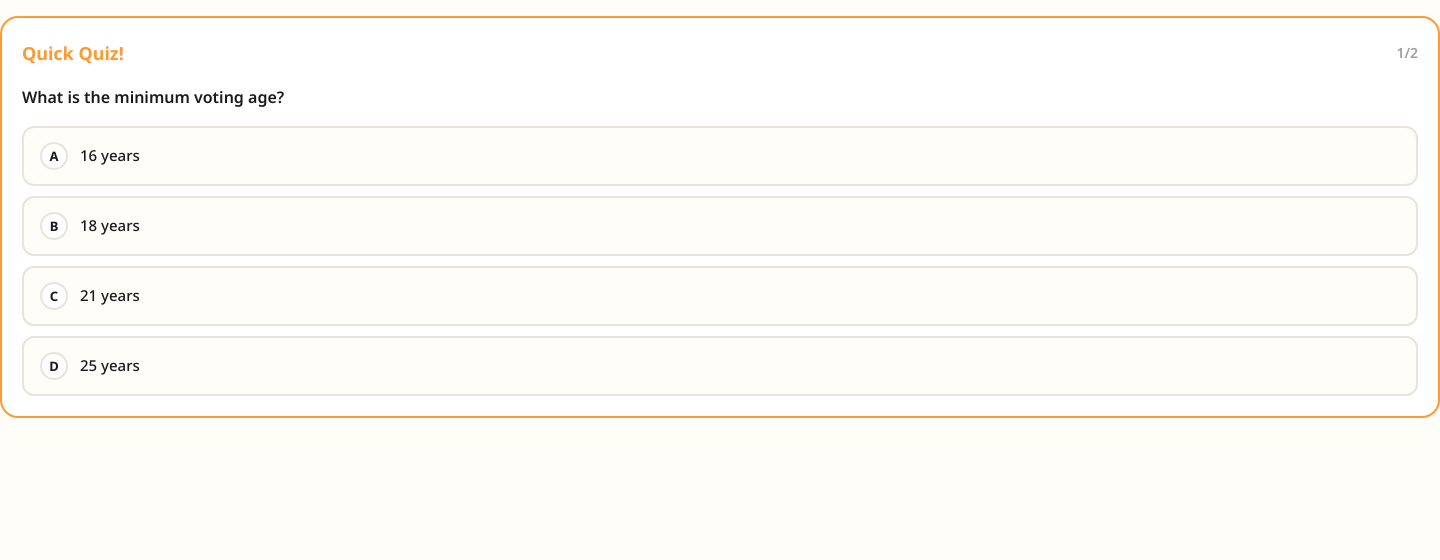
QuizCard › advances to next question on click
Click the button "B 18 years".
click(110, 225)  # box [22,196,1418,256]
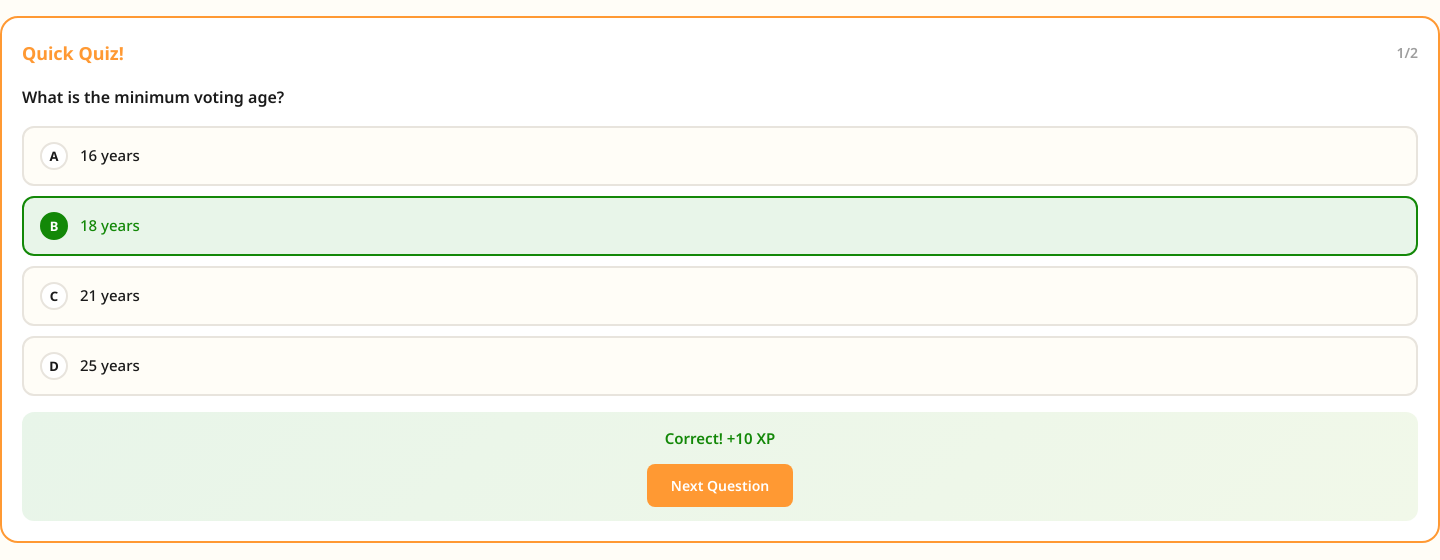
Click the button "Next Question".
click(720, 486)  # box [647,464,793,508]
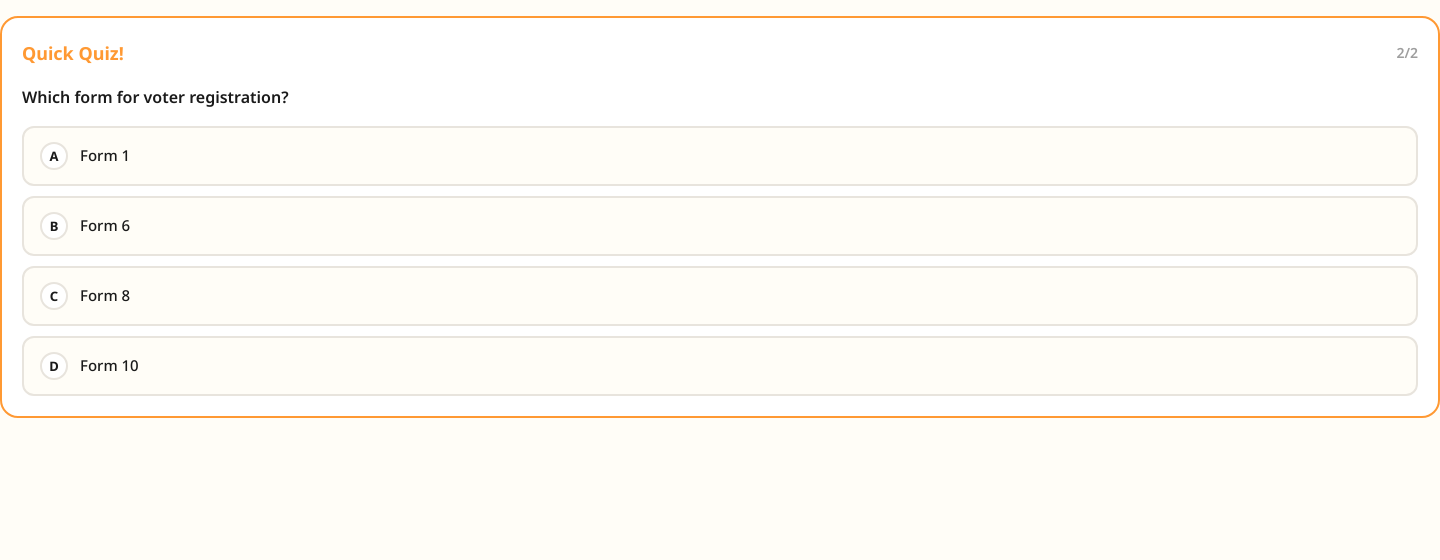
Check: the text "Which form for voter registration?" is shown, box [22,86,288,108]
Check: the text "2/2" is shown, box [1396,41,1418,65]
